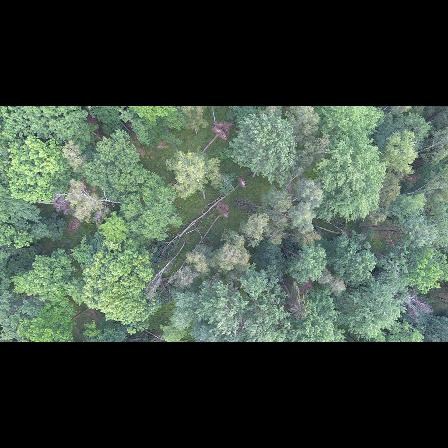Dead: (171, 208, 207, 244), (400, 290, 435, 323), (147, 265, 173, 299)
